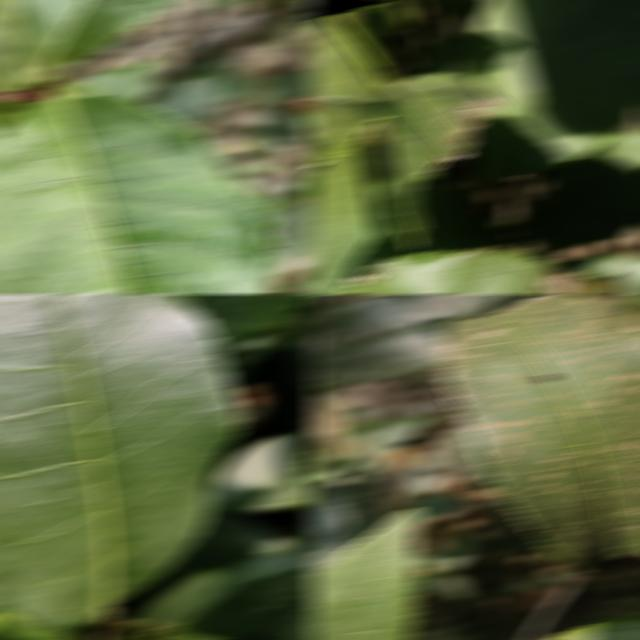Leaf: (0, 294, 241, 627), (0, 95, 279, 294), (438, 296, 640, 569), (470, 0, 640, 175), (311, 294, 507, 385), (308, 508, 422, 640), (516, 130, 640, 250), (308, 19, 393, 165), (153, 565, 318, 640), (10, 0, 178, 72), (308, 146, 380, 294), (206, 429, 318, 512), (0, 0, 34, 90), (308, 481, 340, 548)
